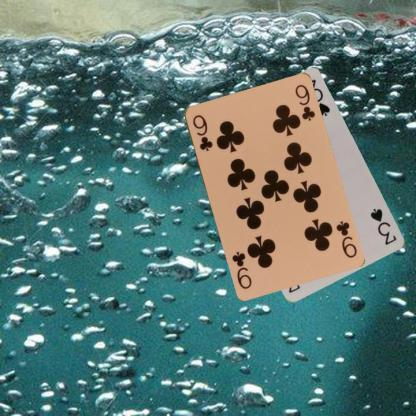3s: (367, 206, 398, 246)
9c: (332, 218, 358, 259), (189, 112, 214, 152)
